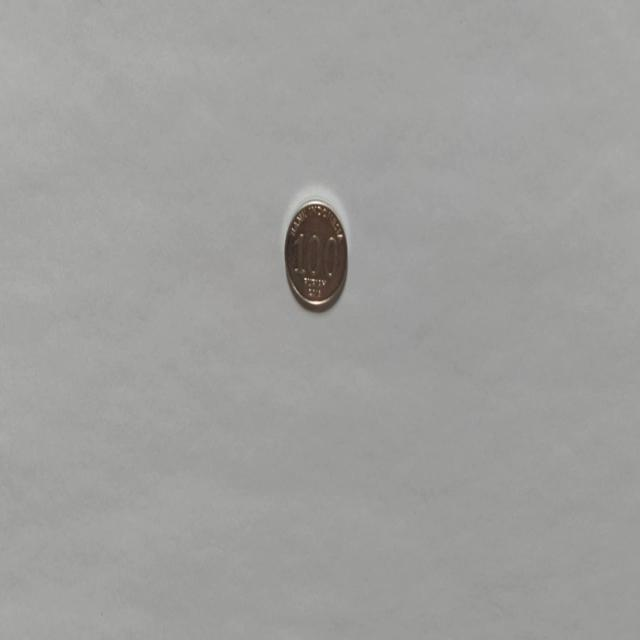seratus rupiah: (283, 196, 348, 312)
